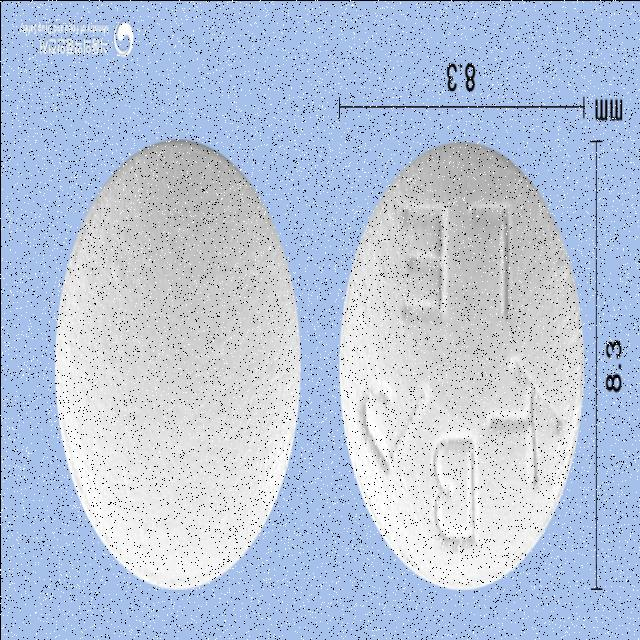Neobit Tab: (340, 143, 584, 591)
